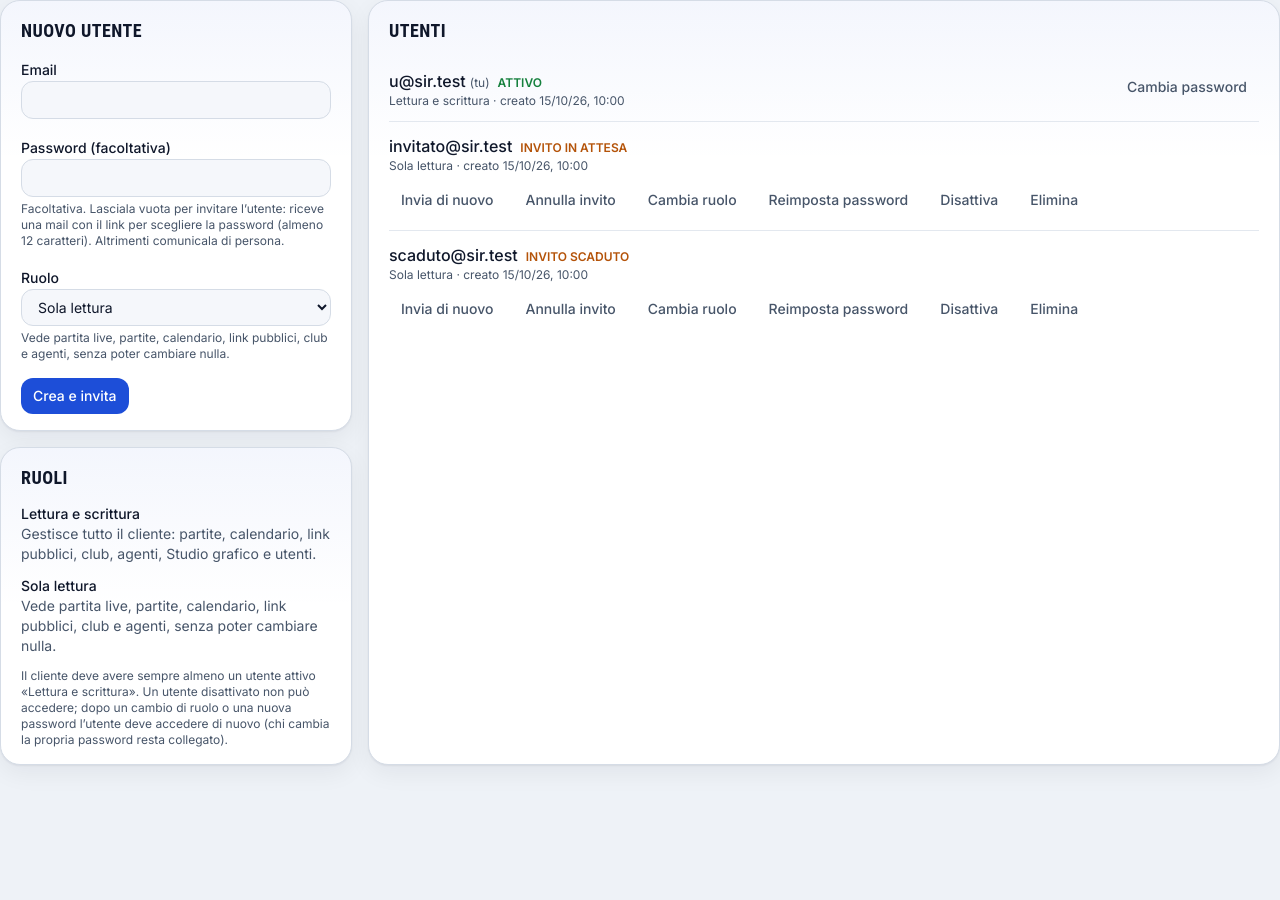
Test: «Utenti» page › shows pending and expired invitations with «Invia di nuovo» and «Annulla invito»
The image size is (1280, 900).
Expected: the text "Invito in attesa" is shown, left=520, top=140, right=627, bottom=155
Expected: the text "Invito scaduto" is shown, left=526, top=249, right=629, bottom=264
Click the button "Invia di nuovo" below "invitato@sir.test" at (447, 200), box left=389, top=182, right=506, bottom=218
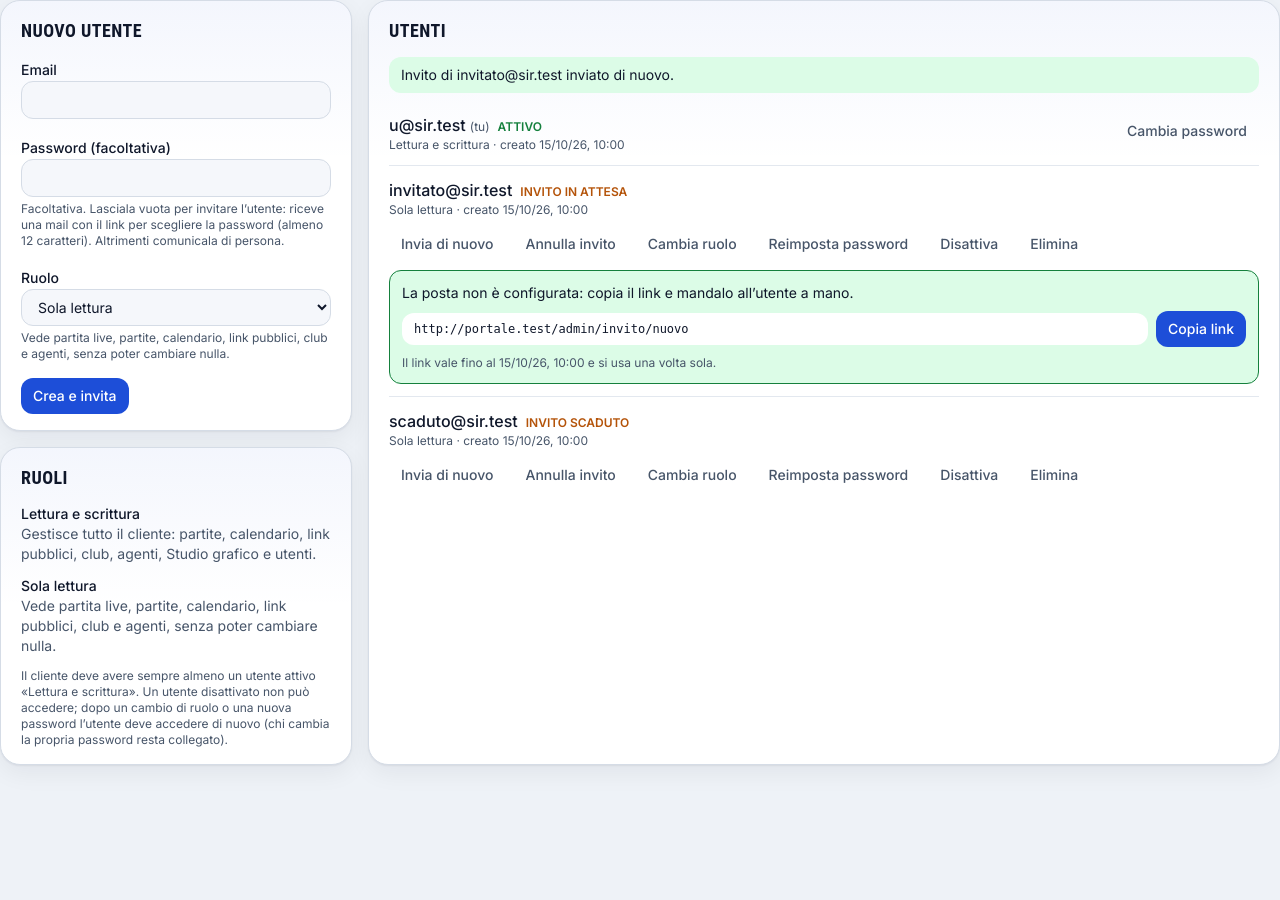
Expected: the text "Invito di invitato@sir.test inviato di nuovo." is shown, left=389, top=57, right=1259, bottom=93
Expected: the text "http://portale.test/admin/invito/nuovo" is shown, left=402, top=313, right=1148, bottom=345
Expected: the text "La posta non è configurata" is shown, left=402, top=284, right=854, bottom=301
Click the button "Annulla invito" below "Invito in attesa" at (571, 244), box left=514, top=226, right=628, bottom=262
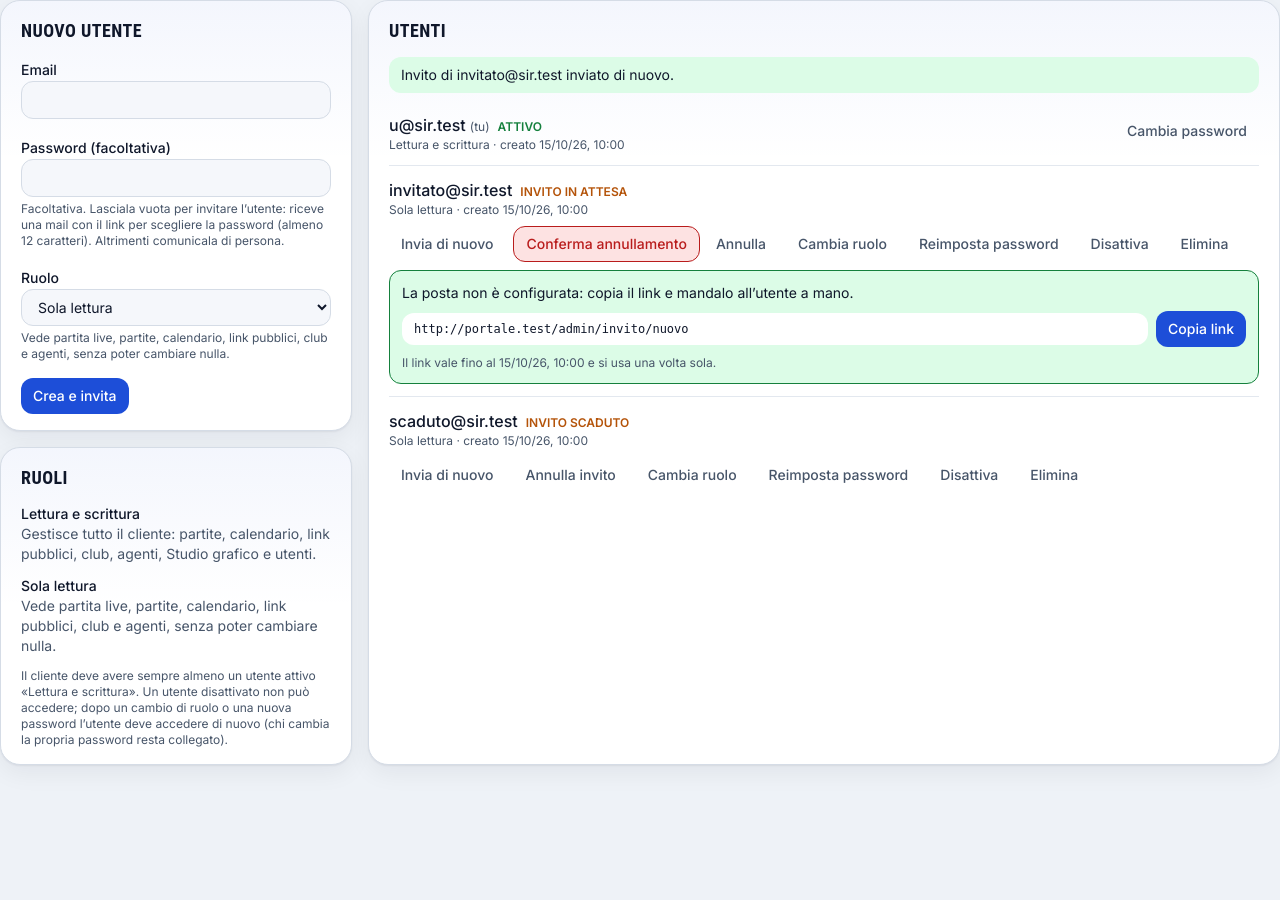
Click the button "Conferma annullamento" at (607, 244), box left=514, top=226, right=700, bottom=262
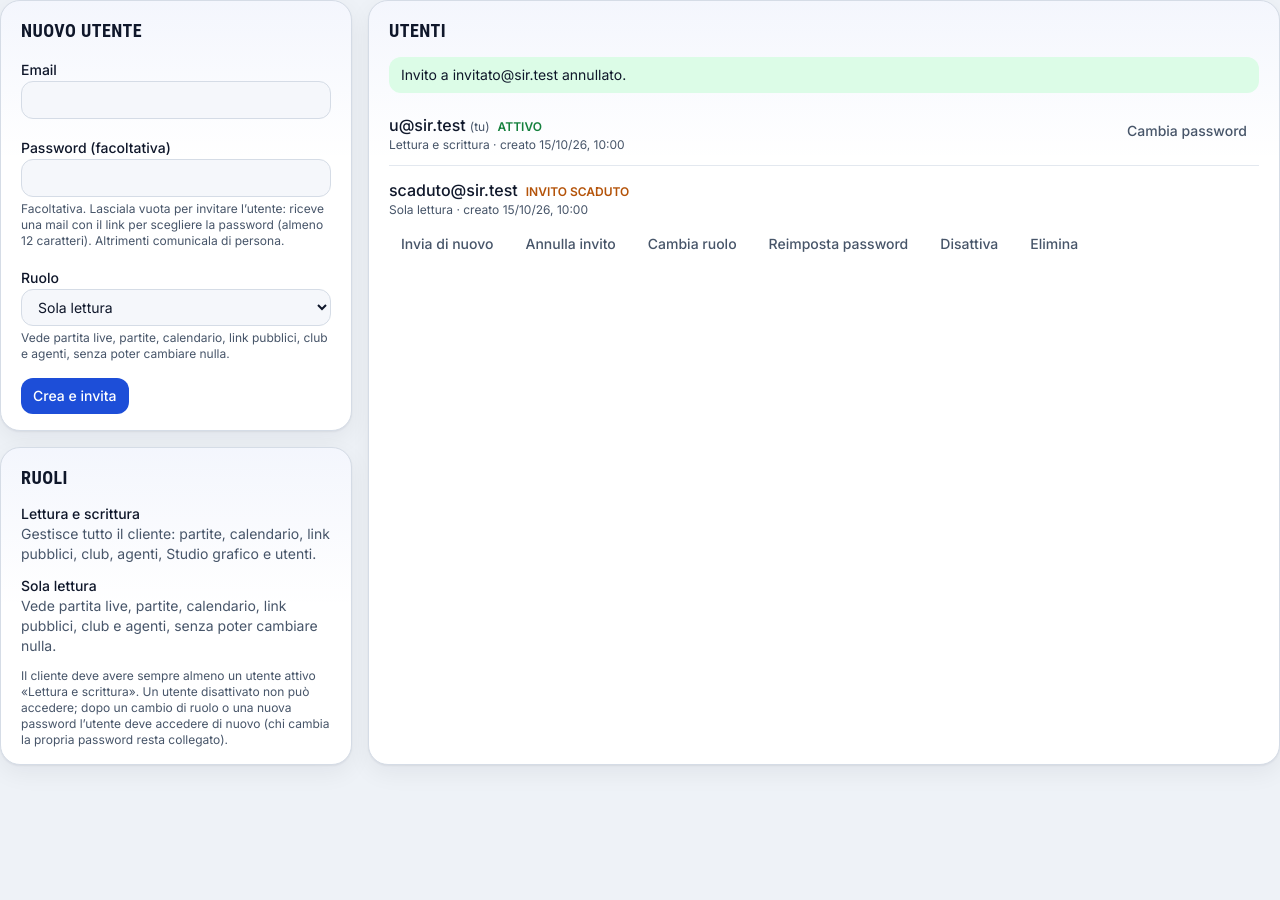
Expected: the text "Invito a invitato@sir.test annullato." is shown, left=389, top=57, right=1259, bottom=93
